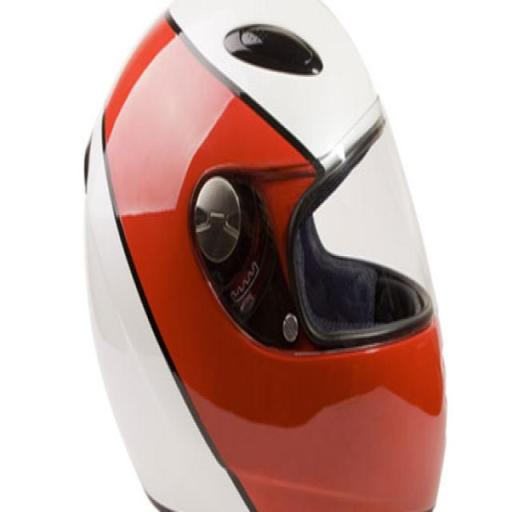Helmet: (86, 0, 445, 511)
